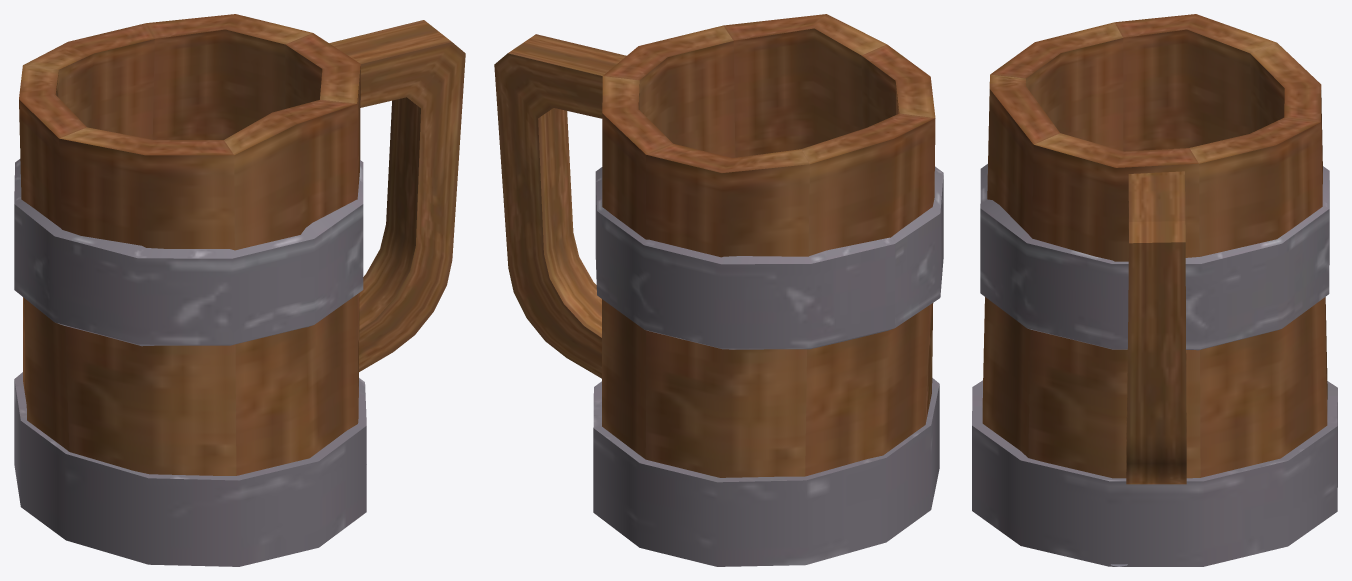
The model's file is Mug.glb.
3 views of the same model, side by side, from view 1: azimuth 30°, elevation 25°; view 2: azimuth 150°, elevation 25°; view 3: azimuth 270°, elevation 25° (orthographic). The views are drawn at different scales.
Visible parts, largest first — view 1: Mug; view 2: Mug; view 3: Mug.
Boxes of the visible parts, x1,y1,x2,y2 form: Mug: (14, 14, 465, 566); Mug: (494, 14, 943, 566); Mug: (972, 14, 1337, 566).
Bounding box in the file's own units: 0.1921 × 0.1839 × 0.1468.
2 materials, 2 textured.
